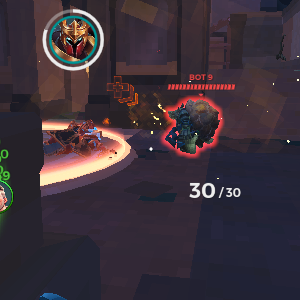model: (168, 98, 220, 159)
